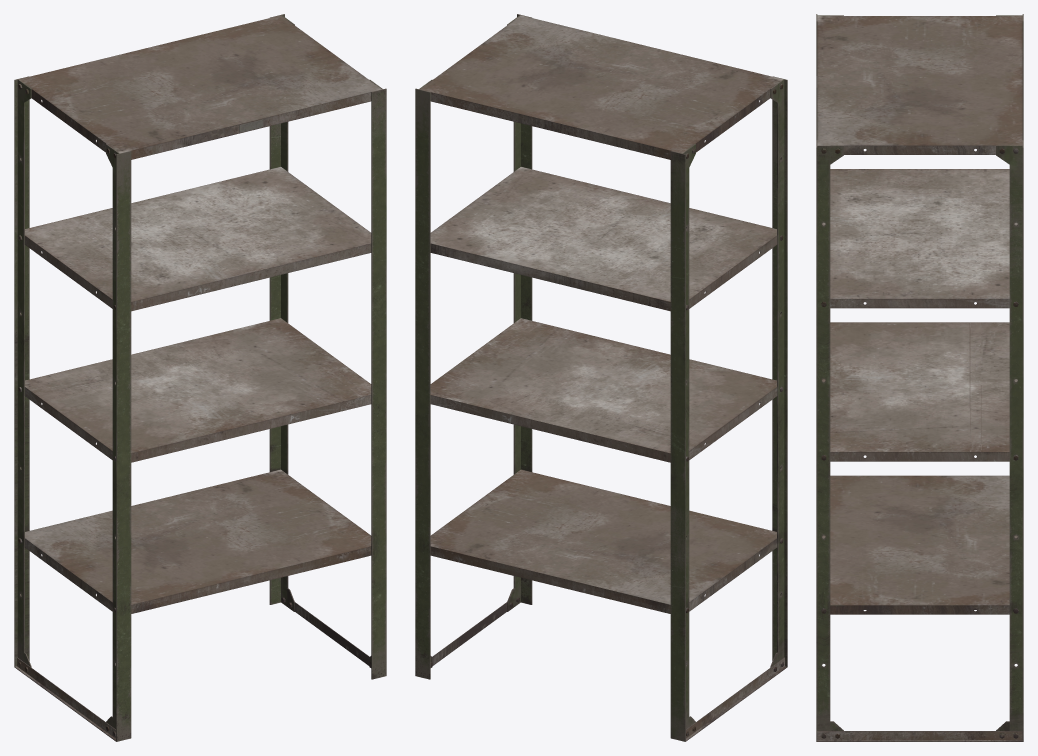
The model's file is worn_metal_rack_game.gltf.
3 renders of one model, left to right at view 1: azimuth 30°, elevation 25°; view 2: azimuth 150°, elevation 25°; view 3: azimuth 270°, elevation 25°, orthographic.
Visible parts, largest first — view 1: worn_metal_rack; view 2: worn_metal_rack; view 3: worn_metal_rack.
Boxes of the visible parts, box(x1,y1,x2,y2) form: worn_metal_rack: box(14, 14, 386, 741); worn_metal_rack: box(415, 14, 787, 741); worn_metal_rack: box(816, 14, 1023, 741).
Bounding box in the file's own units: 0.9154 × 1.9 × 0.6.
1 material, 1 textured.
